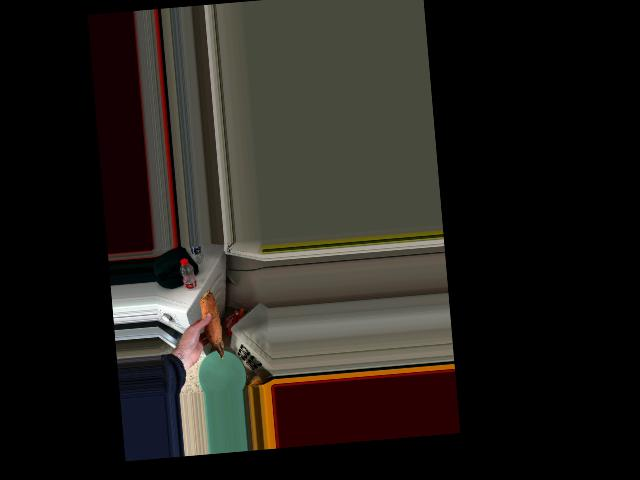sweet_potato: (202, 287, 226, 363)
